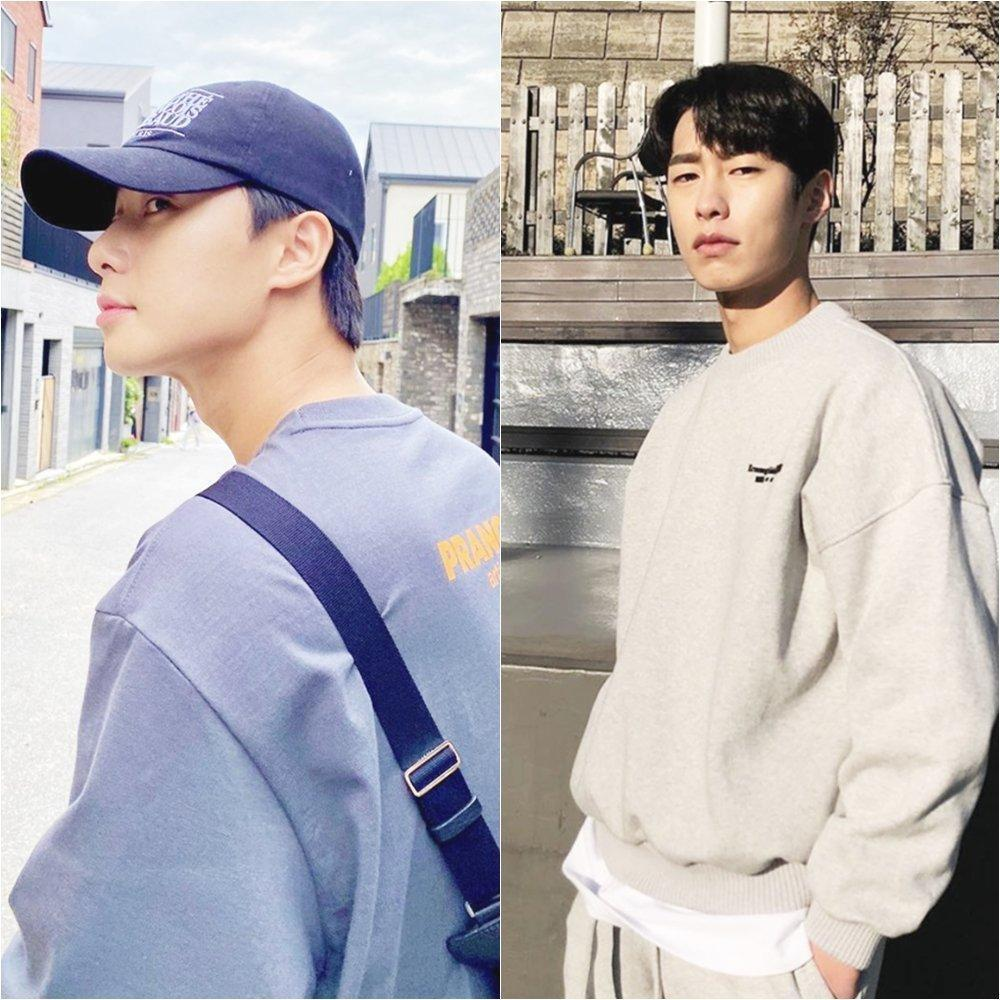sweater: (0, 394, 499, 1000), (565, 298, 1000, 974)
